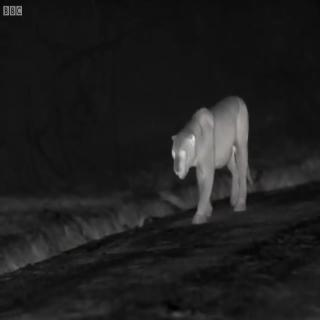Leopard: (165, 89, 272, 224)
